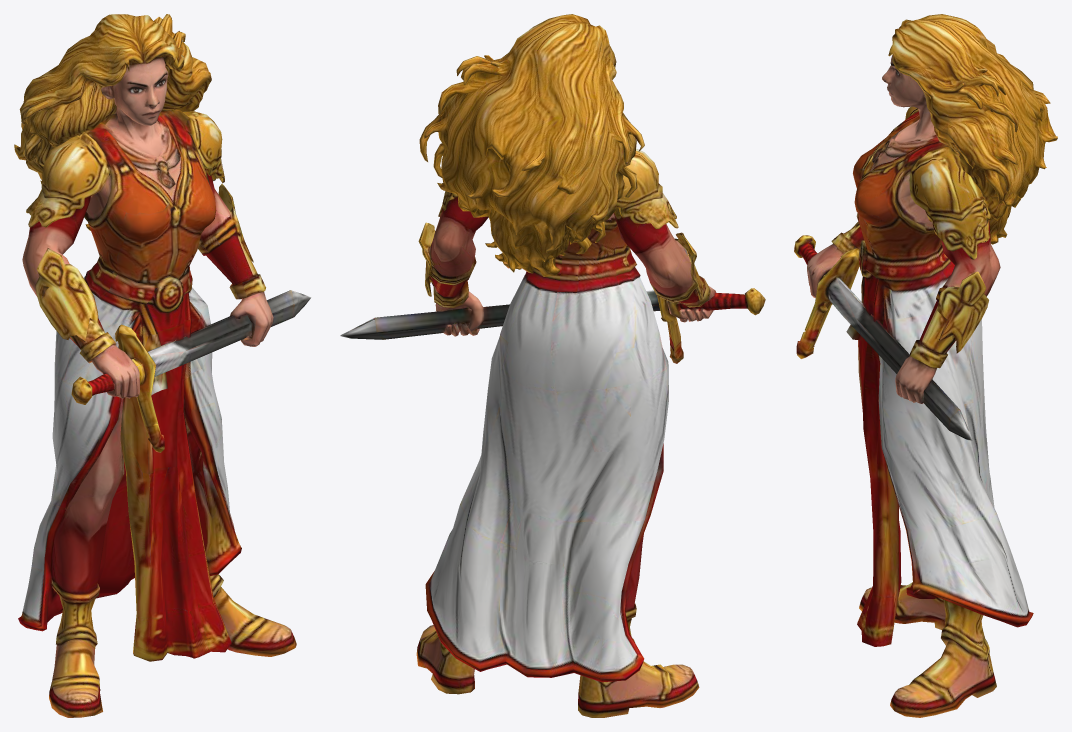
Rendered from signore.glb.
The picture shows the model from 3 angles, left to right: view 1: azimuth 30°, elevation 25°; view 2: azimuth 150°, elevation 25°; view 3: azimuth 270°, elevation 25°; orthographic projection. The views are drawn at different scales.
Size of the model in its own units: 0.4971 by 0.9521 by 0.3618.
1 material, 1 textured.
